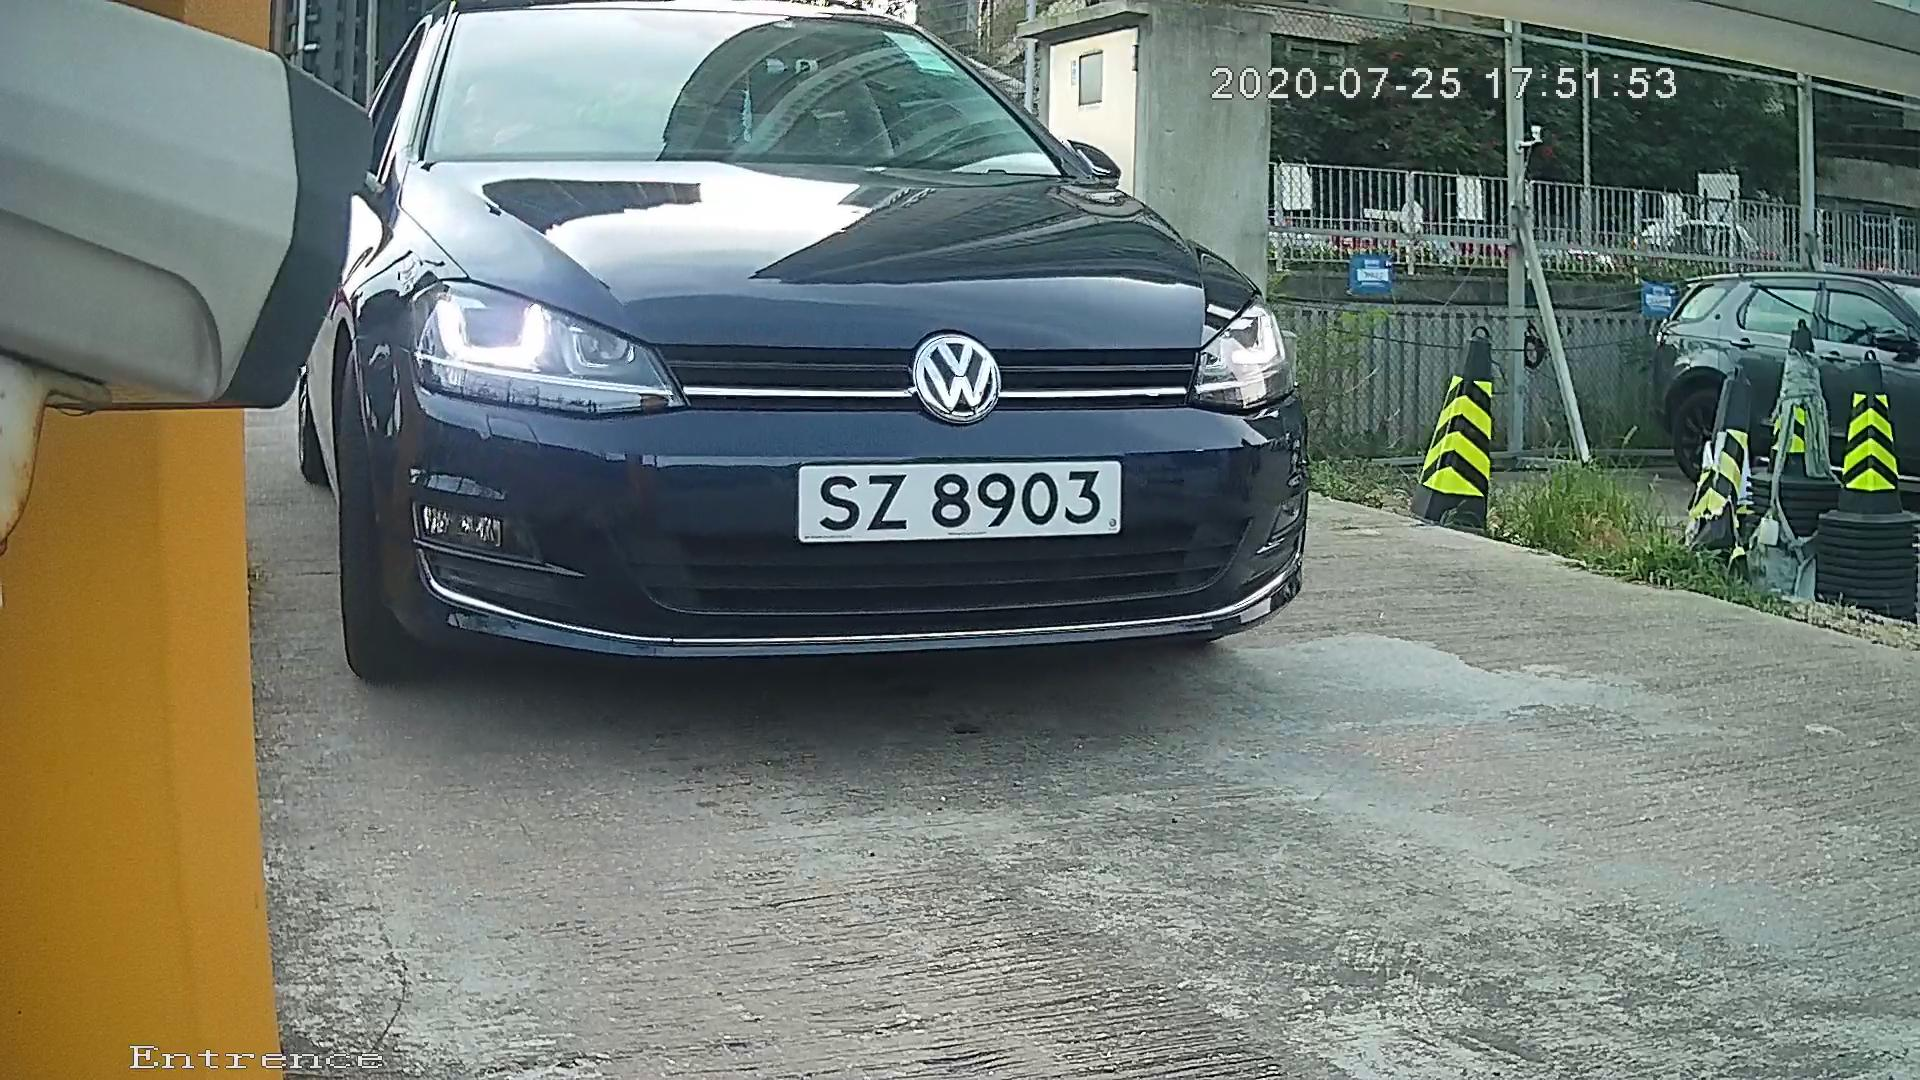License Plate: (781, 444, 1141, 550)
